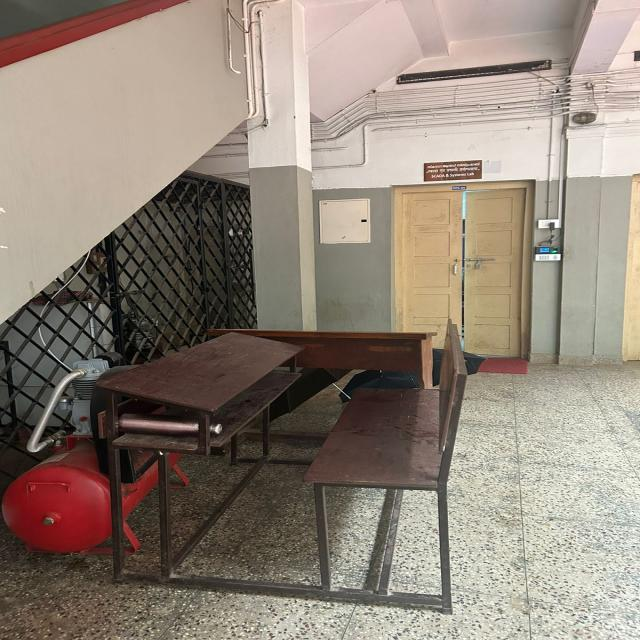bench ahead at: (86, 305, 482, 624)
